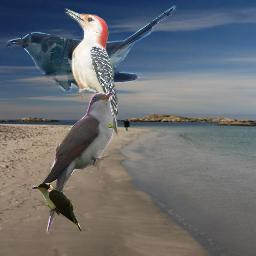Cuckoo: (6, 5, 181, 92), (40, 92, 115, 235), (31, 183, 81, 233)
Woodpecker: (62, 8, 118, 148)
